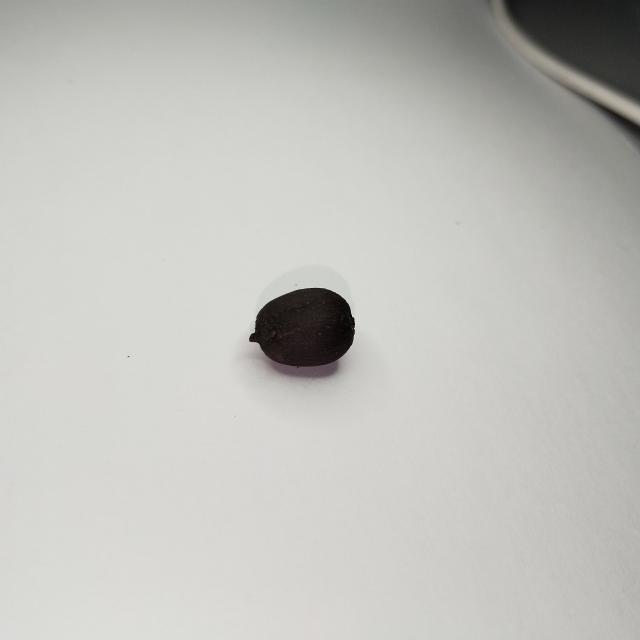Danado: (249, 289, 357, 368)
